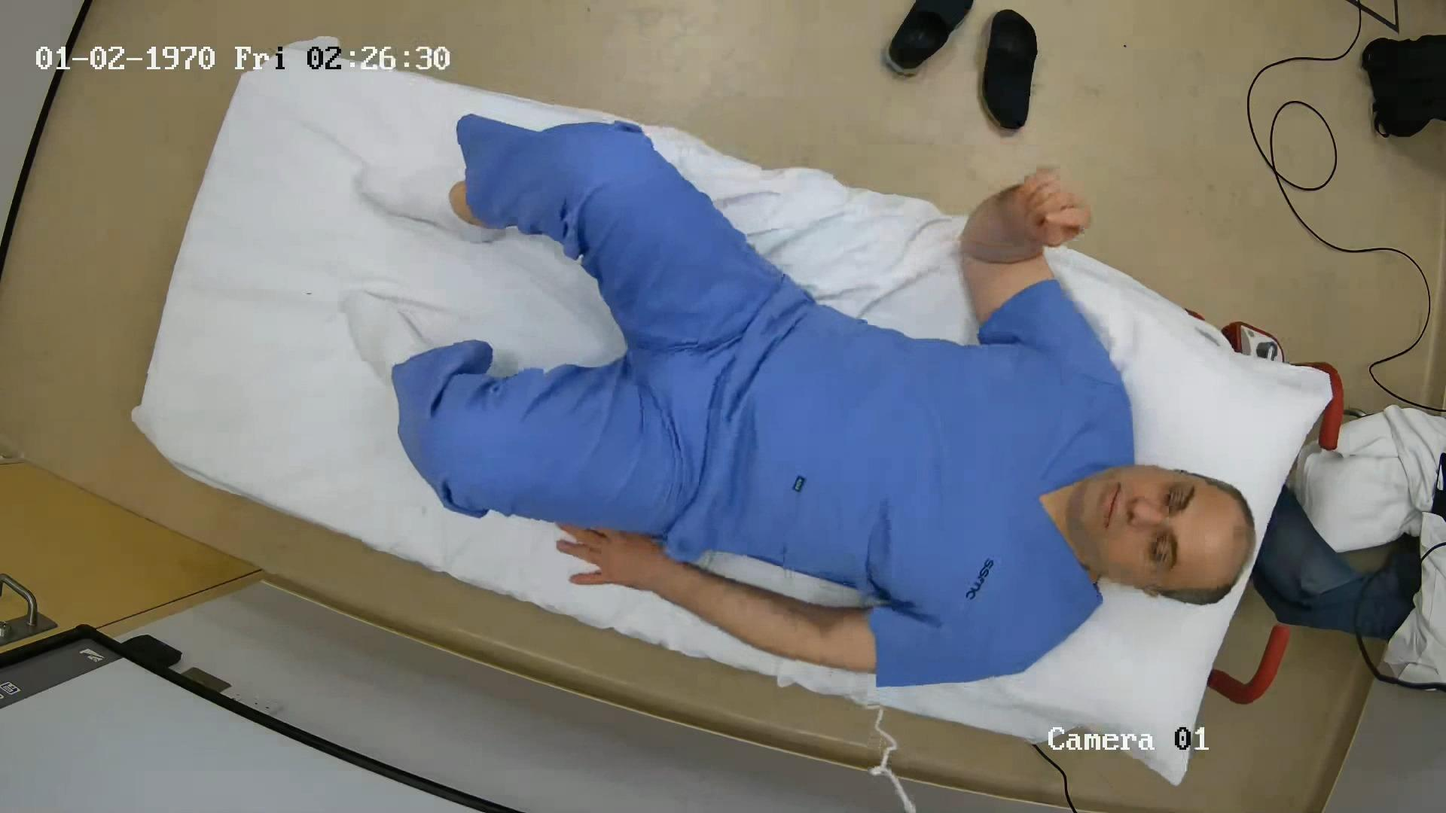patient: (394, 114, 1255, 687)
